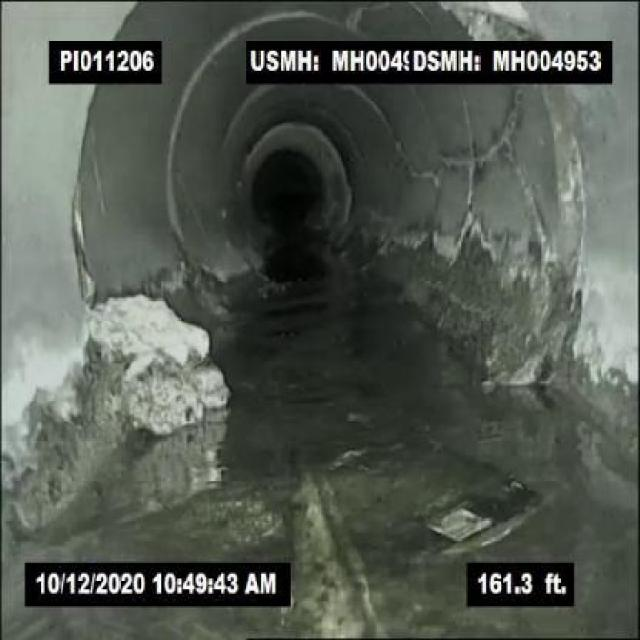Crack: (302, 455, 384, 637), (508, 151, 558, 263), (497, 90, 528, 152), (438, 146, 496, 174)
Debris: (90, 292, 232, 438)
